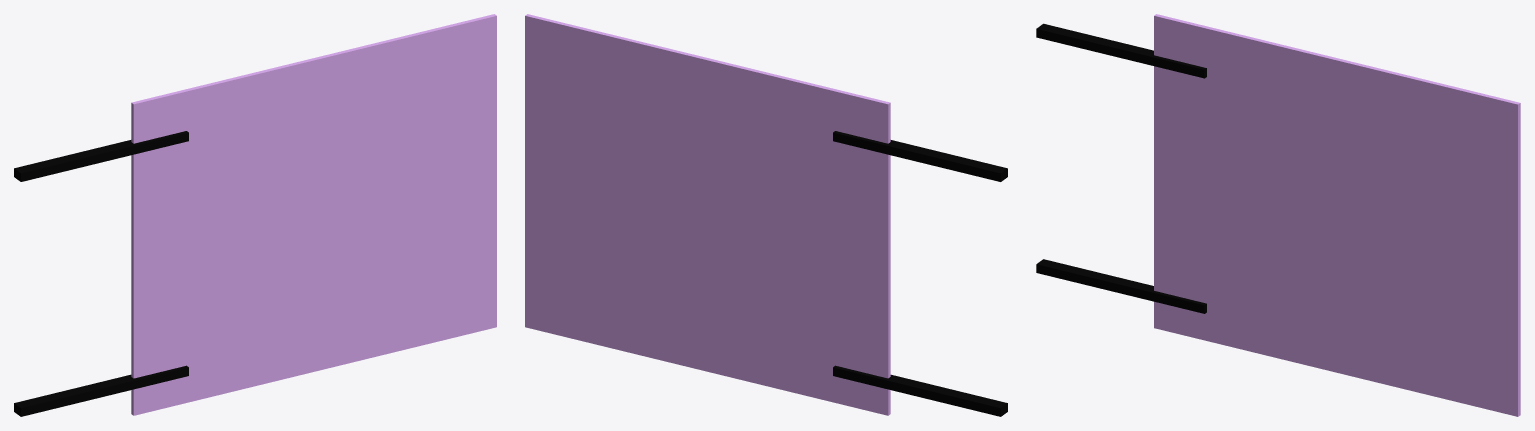
Rendered from Poster6.glb.
The picture shows the model from 3 angles, left to right: view 1: azimuth 30°, elevation 25°; view 2: azimuth 150°, elevation 25°; view 3: azimuth 330°, elevation 25°; orthographic projection.
Visible parts, largest first — view 1: p6; view 2: p6; view 3: p6.
Part boxes in pixels (bbox=[...]): p6: bbox=[14, 14, 496, 416]; p6: bbox=[525, 14, 1007, 416]; p6: bbox=[1036, 14, 1520, 416].
Bounding box in the file's own units: 1 × 0.624 × 0.0254.
Materials: 1 (1 with a texture image).
